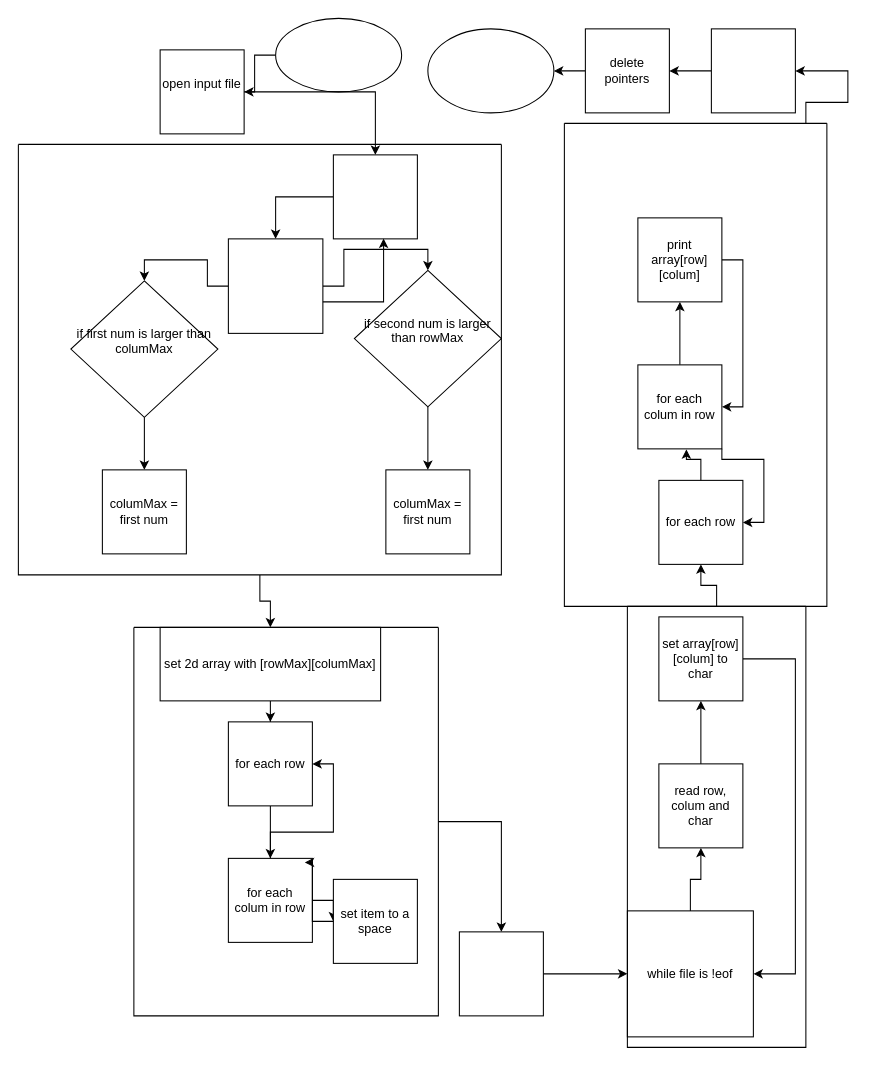
Image size: 875x1066. Some labels were removed from this diagram. Each missing label, with the centre of its shape:
close file: the point at 752,70
end: the point at 490,70
read values for row and colum.: the point at 275,285
reset ifstream to top of file and clear flags: the point at 500,973
start: the point at 338,54
while file is not eof: the point at 374,196
